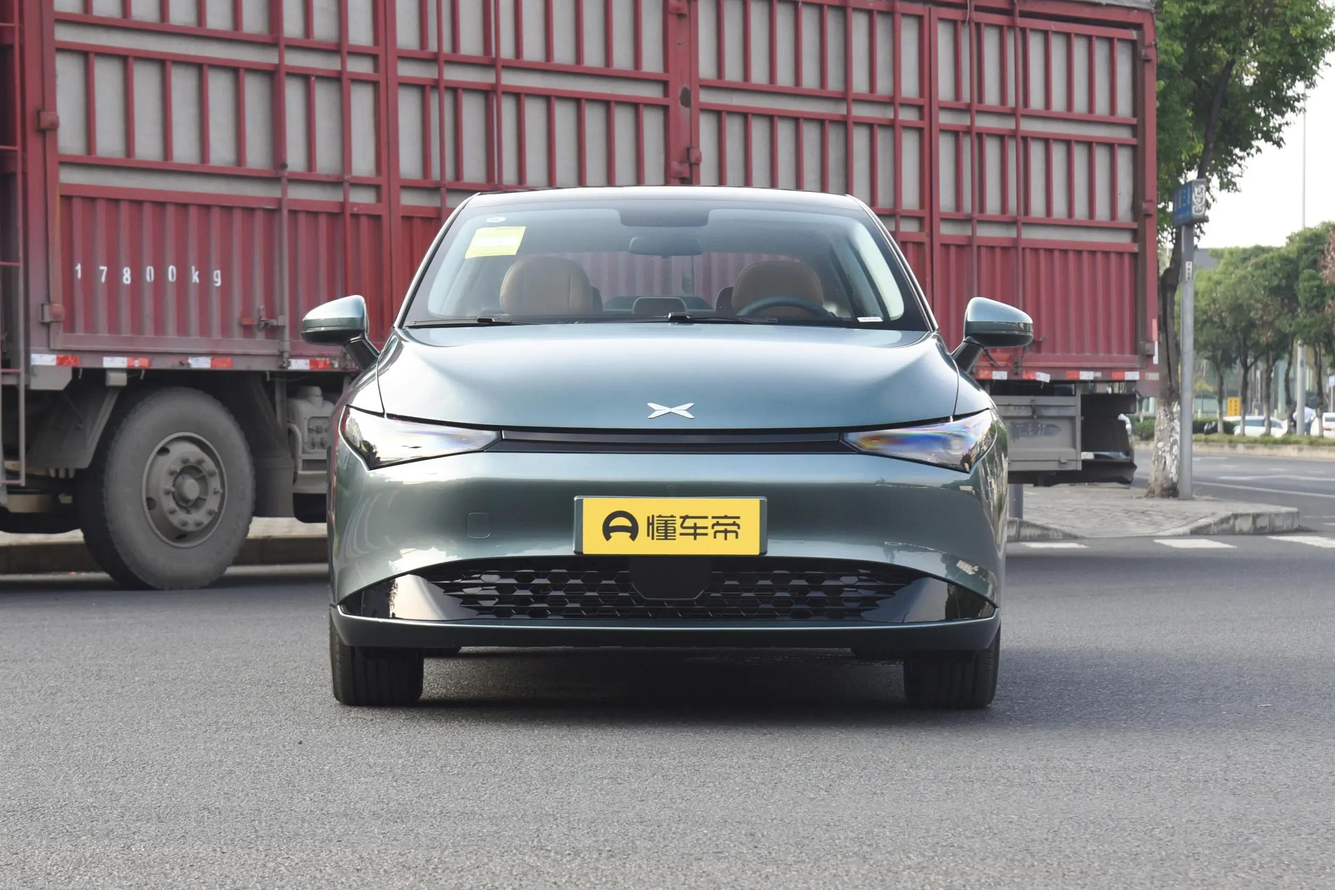XPeng Motors: (647, 403, 695, 418)
